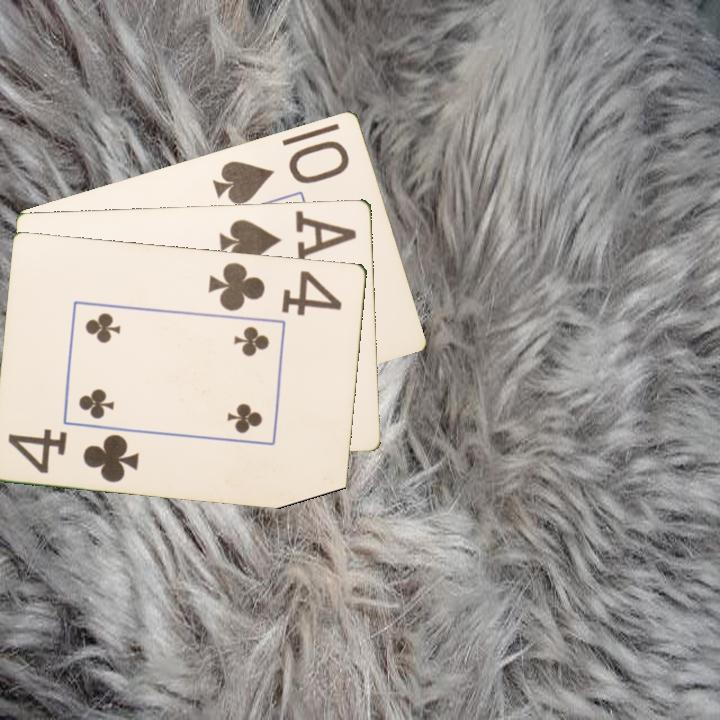10s: (209, 136, 353, 207)
4c: (205, 258, 346, 318), (5, 425, 143, 485)
As: (216, 215, 346, 266)
